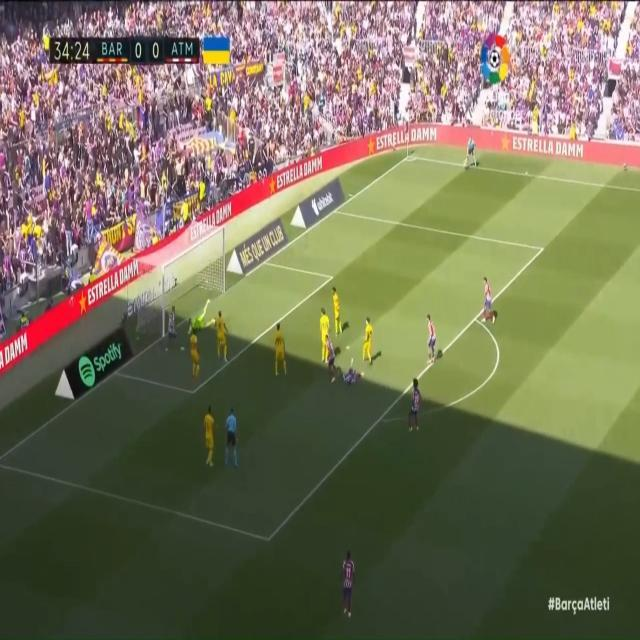ball: (179, 342, 187, 356)
goalkeeper: (190, 289, 216, 339)
player: (335, 539, 360, 628), (204, 399, 222, 474), (404, 365, 421, 443), (359, 300, 381, 355), (272, 319, 291, 379), (481, 267, 498, 331), (330, 283, 348, 340), (317, 303, 334, 363), (343, 359, 374, 391), (326, 339, 342, 399), (425, 307, 440, 368), (187, 330, 203, 386), (216, 304, 231, 363), (167, 300, 180, 360)
referee: (225, 409, 246, 467), (465, 126, 482, 170)
